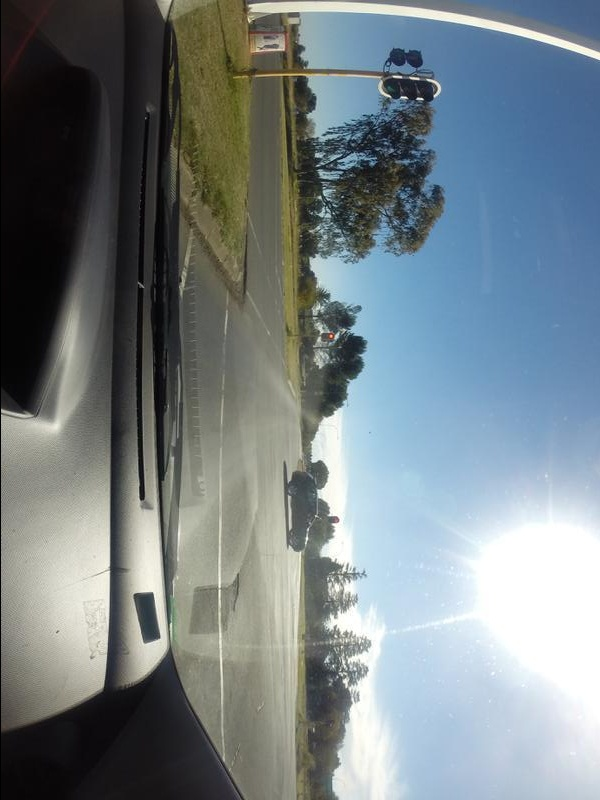pothole: (224, 569, 246, 619)
